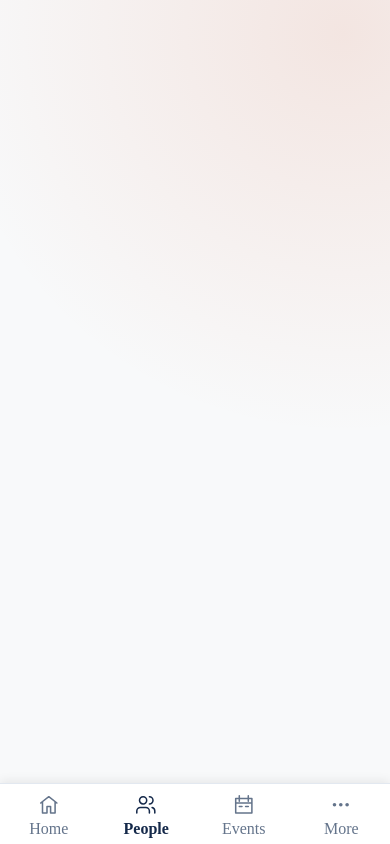
Test case: MobileOrganizationAdminNavigation › opens People sheet, lists destinations, and marks current page link
Click the button "People" at (146, 814), box [98,784,195,843]
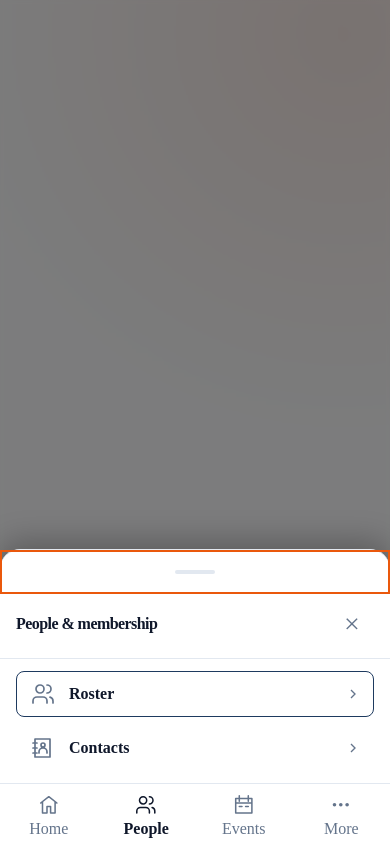
Now the dialog is shown, box [0,549,389,843]
Now the heading "People & membership" is shown, box [16,615,157,632]
Now the link "Roster" is shown, box [16,671,374,717]
Click the button with aria-label "People" at (146, 814), box [98,784,195,843]
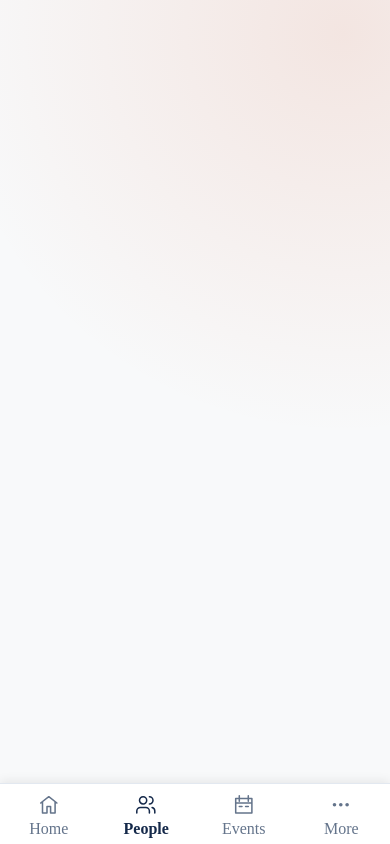
Now the dialog is gone
